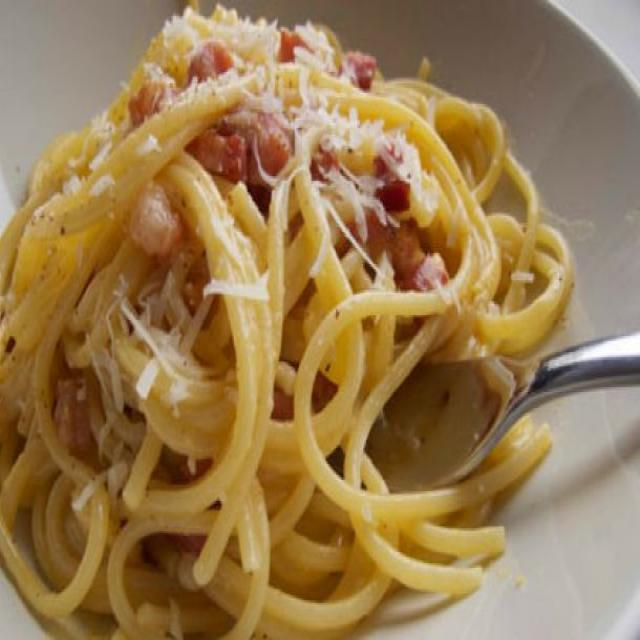Pasta with carbonara sauce: (34, 26, 556, 610)
